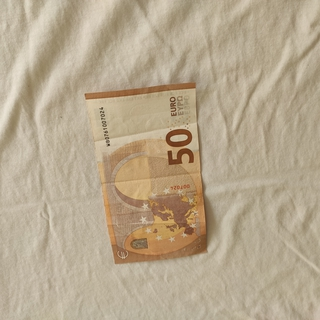50EUROBack: (83, 81, 208, 265)
